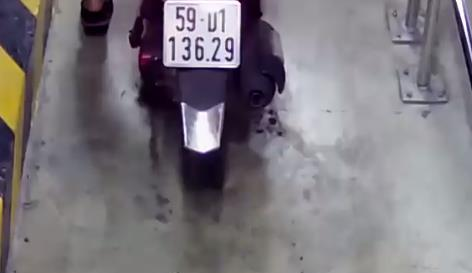lisence: (162, 1, 241, 67)
